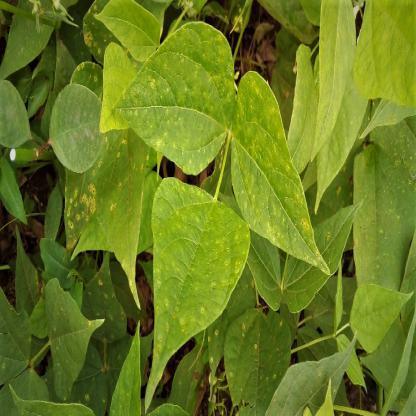Beans_Rust: (147, 178, 257, 398), (226, 70, 330, 272), (109, 28, 234, 169), (58, 55, 126, 252), (353, 113, 416, 309), (98, 140, 154, 314), (225, 312, 292, 415), (0, 282, 35, 397)
